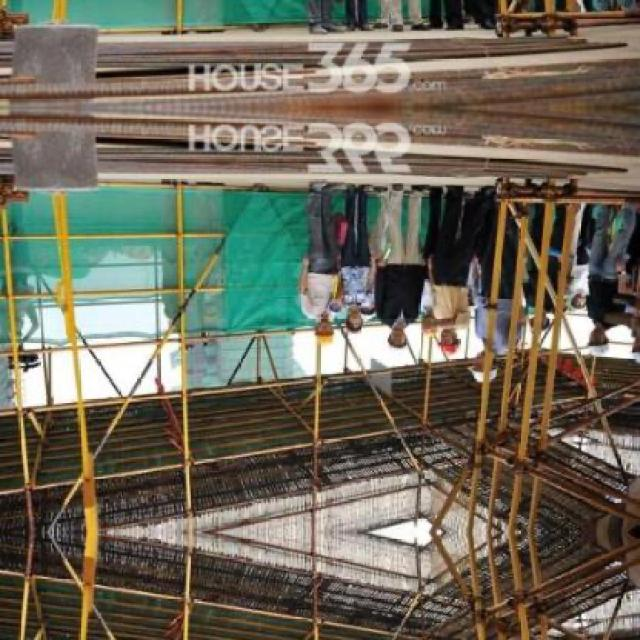con casco: (293, 288, 354, 349), (466, 346, 543, 388), (403, 304, 472, 347), (362, 314, 409, 354)
